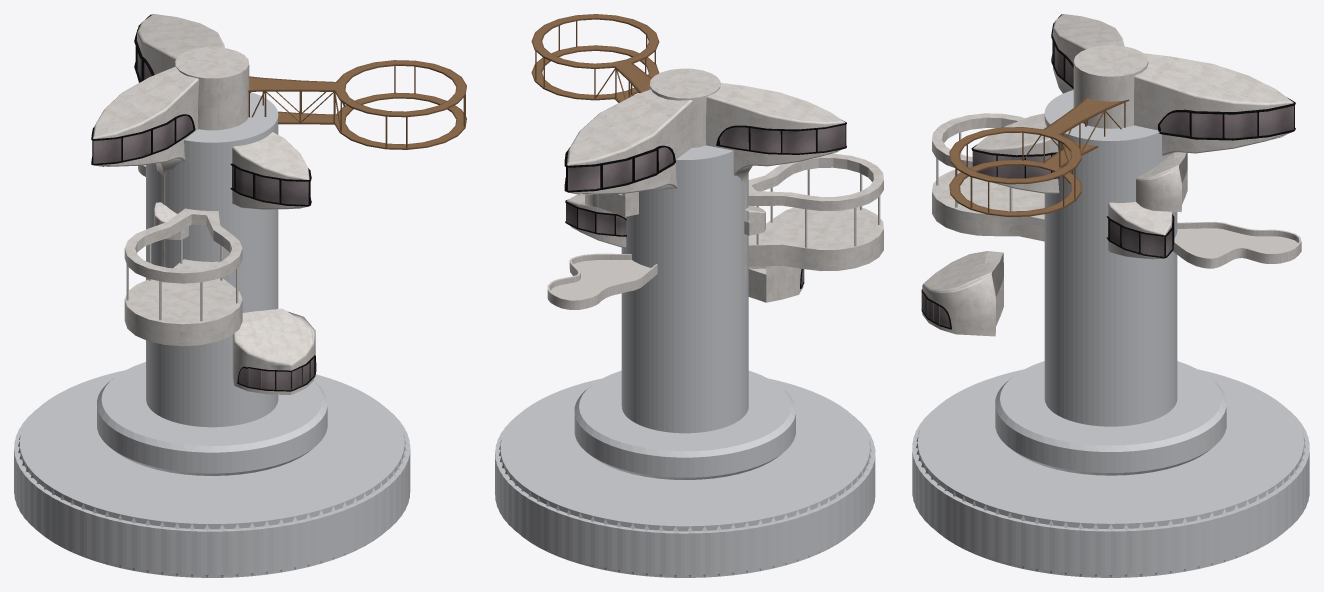
File: atomic-sentient-hospital-v2.glb
The picture shows the model from 3 angles, left to right: view 1: azimuth 30°, elevation 25°; view 2: azimuth 150°, elevation 25°; view 3: azimuth 270°, elevation 25°; orthographic projection. The views are drawn at different scales.
Parts seen in each view (by area): view 1: ERDrum, CoreCylinder, DeckTier, Windows, BottomEntrance, Extension, BigFrontRoom, CliffRoom, HouseBase, TopEntrance, BigBackRoom, FrontRoom; view 2: ERDrum, CoreCylinder, DeckTier, Windows, BigBackRoom, BottomEntrance, BigFrontRoom, Extension, BackDeck, TopEntrance, HouseBase, CliffRoom (+3 smaller); view 3: ERDrum, CoreCylinder, DeckTier, BigBackRoom, Windows, Extension, CliffRoom, BottomEntrance, BackDeck, HouseBase, ExtraCliff_1, FrontRoom (+3 smaller).
Boxes of the visible parts, <box> form: ERDrum: <box>14,370,410,577</box>; CoreCylinder: <box>146,92,278,427</box>; DeckTier: <box>97,362,327,475</box>; Windows: <box>91,14,316,391</box>; BottomEntrance: <box>124,259,242,346</box>; Extension: <box>248,60,466,149</box>; BigFrontRoom: <box>93,66,198,266</box>; CliffRoom: <box>232,308,315,394</box>; HouseBase: <box>175,47,249,130</box>; TopEntrance: <box>124,208,242,283</box>; BigBackRoom: <box>137,14,224,82</box>; FrontRoom: <box>232,132,309,209</box>; ERDrum: <box>495,378,875,577</box>; CoreCylinder: <box>621,145,748,433</box>; DeckTier: <box>574,370,795,479</box>; Windows: <box>564,120,846,288</box>; BigBackRoom: <box>567,89,692,194</box>; BottomEntrance: <box>748,207,883,271</box>; BigFrontRoom: <box>706,83,845,289</box>; Extension: <box>531,14,659,102</box>; BackDeck: <box>547,253,657,309</box>; TopEntrance: <box>748,153,883,210</box>; HouseBase: <box>649,68,720,147</box>; CliffRoom: <box>748,266,803,302</box>; ERDrum: <box>912,369,1309,577</box>; CoreCylinder: <box>1044,90,1177,426</box>; DeckTier: <box>995,361,1226,475</box>; BigBackRoom: <box>1134,53,1293,155</box>; Windows: <box>921,14,1295,329</box>; Extension: <box>949,97,1129,216</box>; CliffRoom: <box>922,251,1003,336</box>; BottomEntrance: <box>932,169,1044,241</box>; BackDeck: <box>1173,221,1301,268</box>; HouseBase: <box>1073,45,1148,128</box>; ExtraCliff_1: <box>1136,152,1187,212</box>; FrontRoom: <box>973,113,1059,193</box>.
Size of the model in its own units: 51.67 by 58.93 by 47.95.
4 materials, 3 textured.
